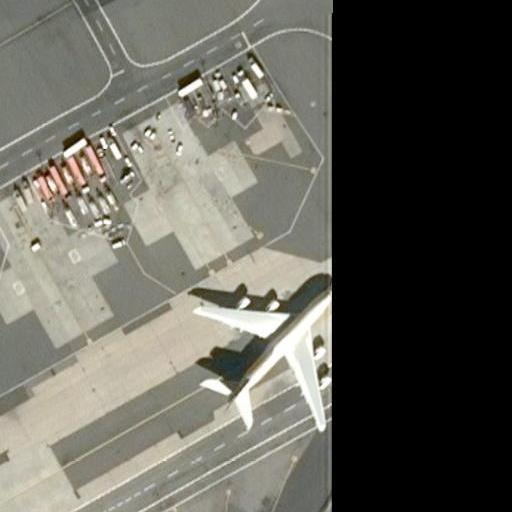Aircraft: (187, 264, 338, 435)
